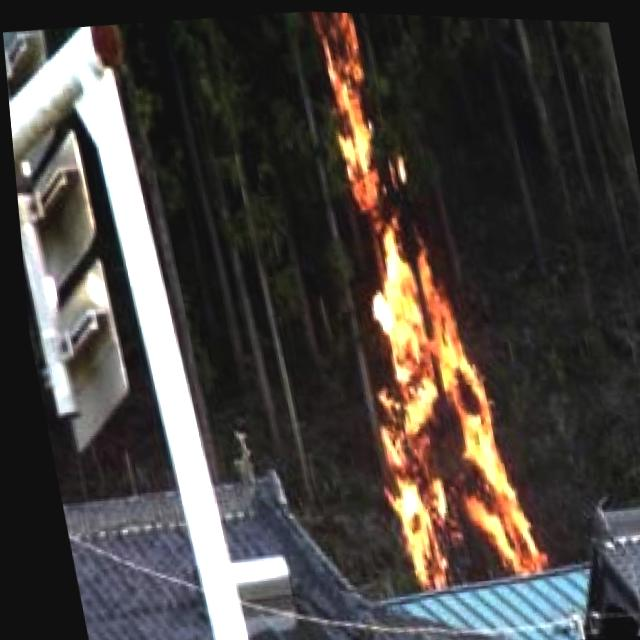Fire: (283, 8, 539, 599)
